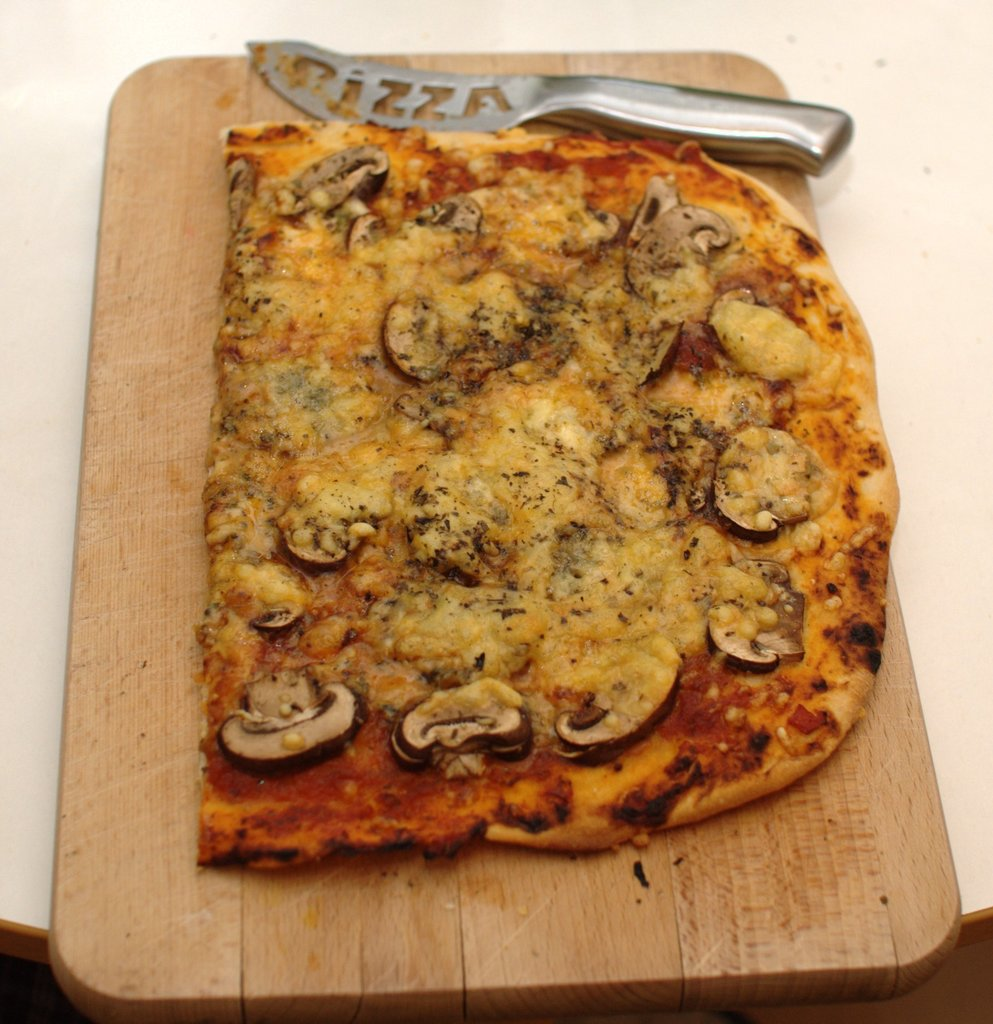Pizza: (145, 96, 916, 867)
